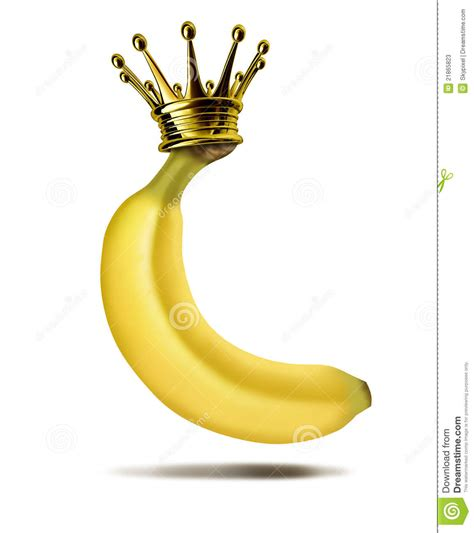banana: (98, 179, 377, 445)
